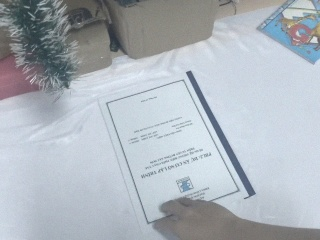book: (254, 1, 320, 70)
box: (102, 1, 218, 59)
